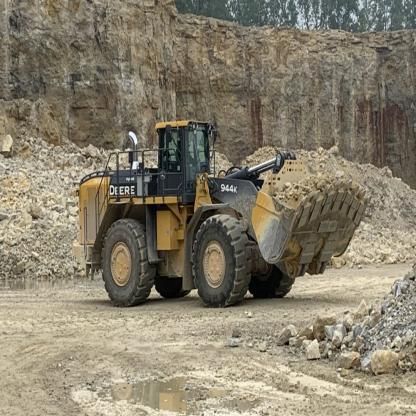bull_dozer/loader/grader: (74, 114, 368, 317)
